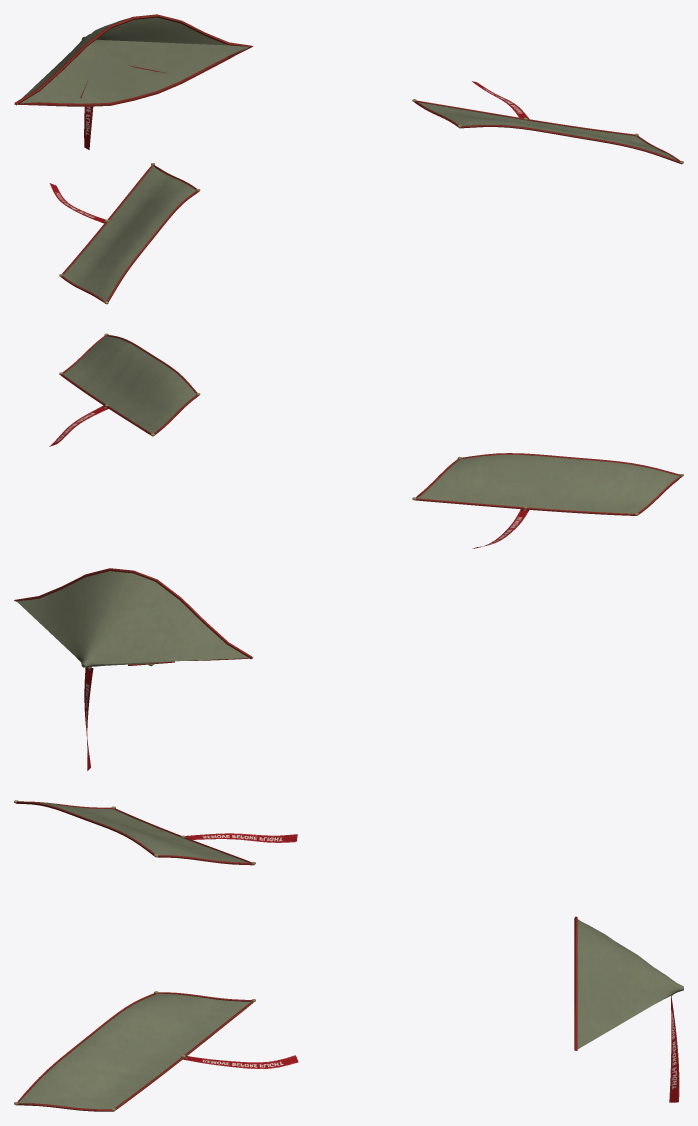
File: aircraft_covers_manta.glb
3 renders of one model, top to bottom at view 1: azimuth 30°, elevation 25°; view 2: azimuth 150°, elevation 25°; view 3: azimuth 270°, elevation 25°, orthographic. The views are drawn at different scales.
Parts seen in each view (by area): view 1: cover_nose, cover_intake_l, cover_intake_r; view 2: cover_nose, cover_intake_l, cover_intake_r; view 3: cover_intake_r, cover_nose, cover_intake_l.
Part boxes in pixels (<box>): cover_nose: <box>14,14,252,149</box>; cover_intake_l: <box>49,163,200,304</box>; cover_intake_r: <box>412,81,683,164</box>; cover_nose: <box>14,568,252,770</box>; cover_intake_l: <box>412,453,683,548</box>; cover_intake_r: <box>49,333,200,446</box>; cover_intake_r: <box>14,991,298,1111</box>; cover_nose: <box>574,916,683,1102</box>; cover_intake_l: <box>14,800,297,865</box>.
Bounding box in the file's own units: 11.07 × 3.1 × 10.33.
1 material, 1 textured.
